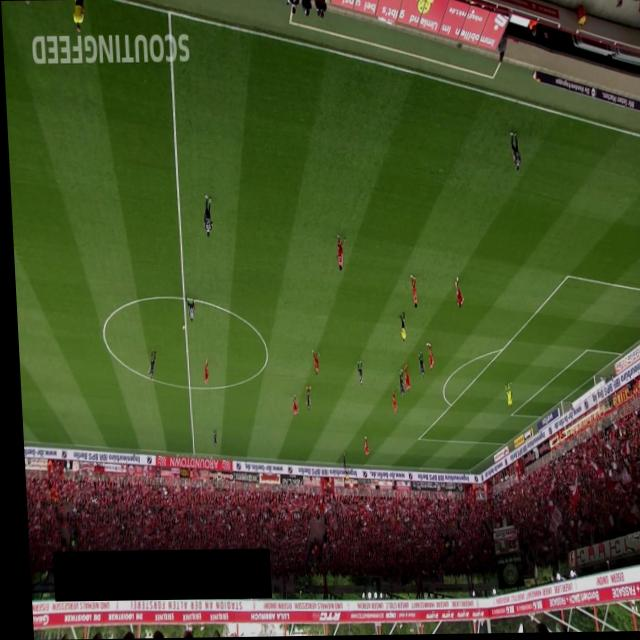goalkeeper: (499, 383, 508, 409)
player: (507, 133, 519, 173), (200, 195, 210, 239), (332, 235, 343, 272), (142, 350, 154, 379), (450, 277, 460, 309), (181, 297, 192, 323), (406, 275, 414, 309), (306, 350, 315, 376), (392, 370, 399, 399), (398, 364, 405, 393), (413, 351, 420, 379), (422, 343, 429, 371), (300, 386, 307, 411), (198, 359, 204, 385), (286, 394, 293, 416), (352, 361, 358, 386), (387, 390, 393, 414), (357, 436, 363, 456), (207, 429, 212, 447), (337, 453, 341, 471)
referee: (71, 0, 84, 33), (395, 313, 402, 344), (339, 465, 343, 483)
